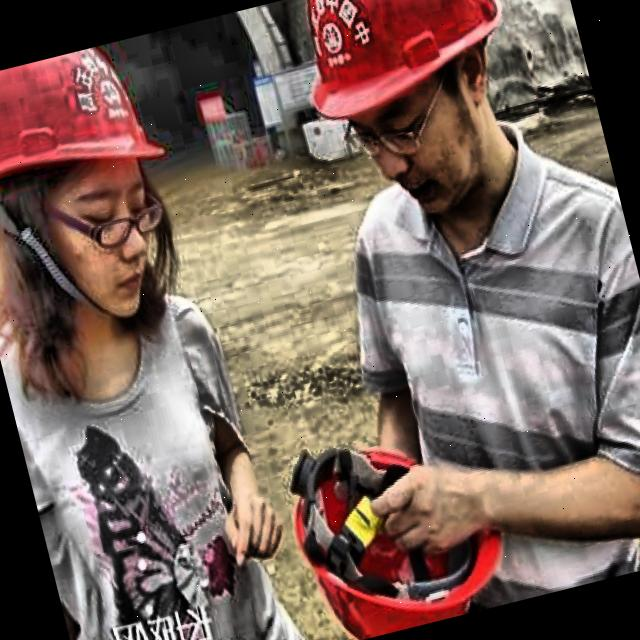helmet: (291, 0, 567, 277), (0, 36, 207, 353)
